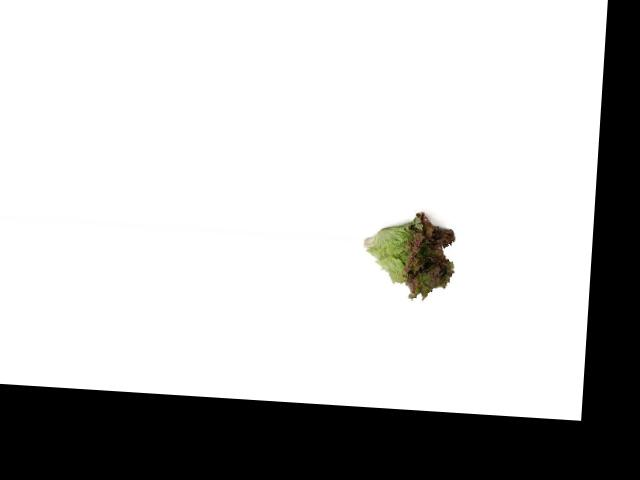lettuce: (358, 200, 470, 306)
